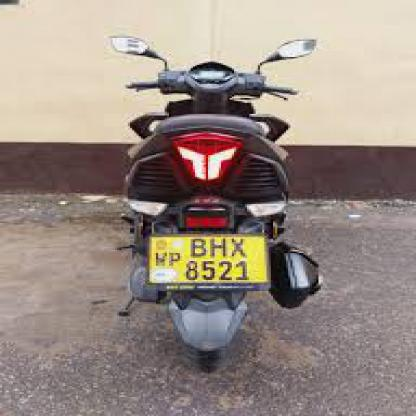bike: (108, 35, 325, 383)
